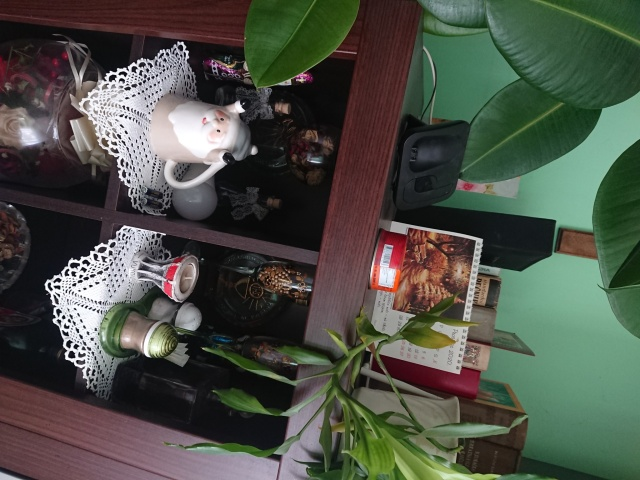Gavrilovic Pork Liver Pate 100g: (366, 225, 409, 294)
